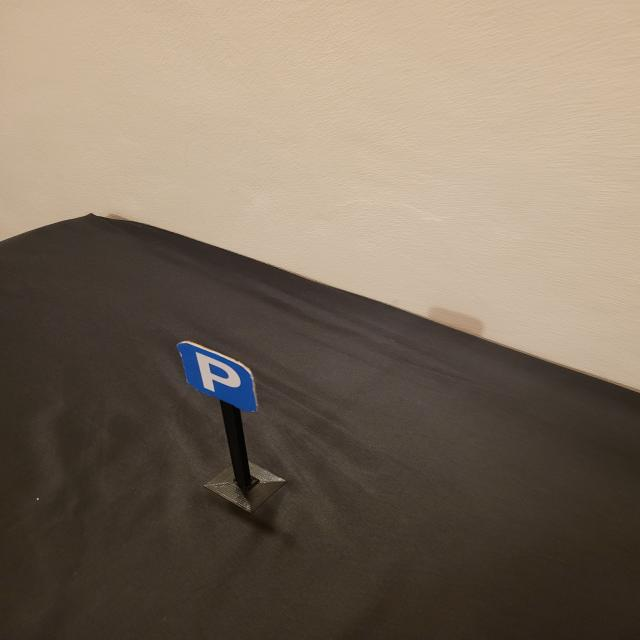parking: (176, 340, 258, 413)
